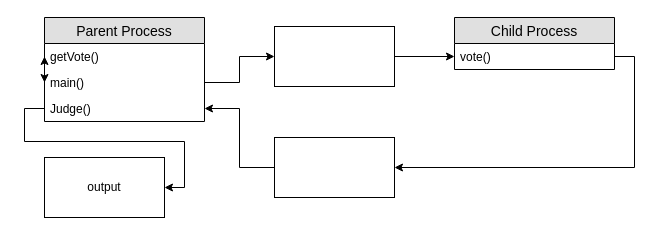
The diagram is 660 pixels wide and 235 high, and some of its shapes have lost their labels. The shapes that lost their labels are listed below. From the top down, each one's centre as x and y in pixels, then its label:
At pixel 334 56: "fork()".
At pixel 334 167: "pipe()".
